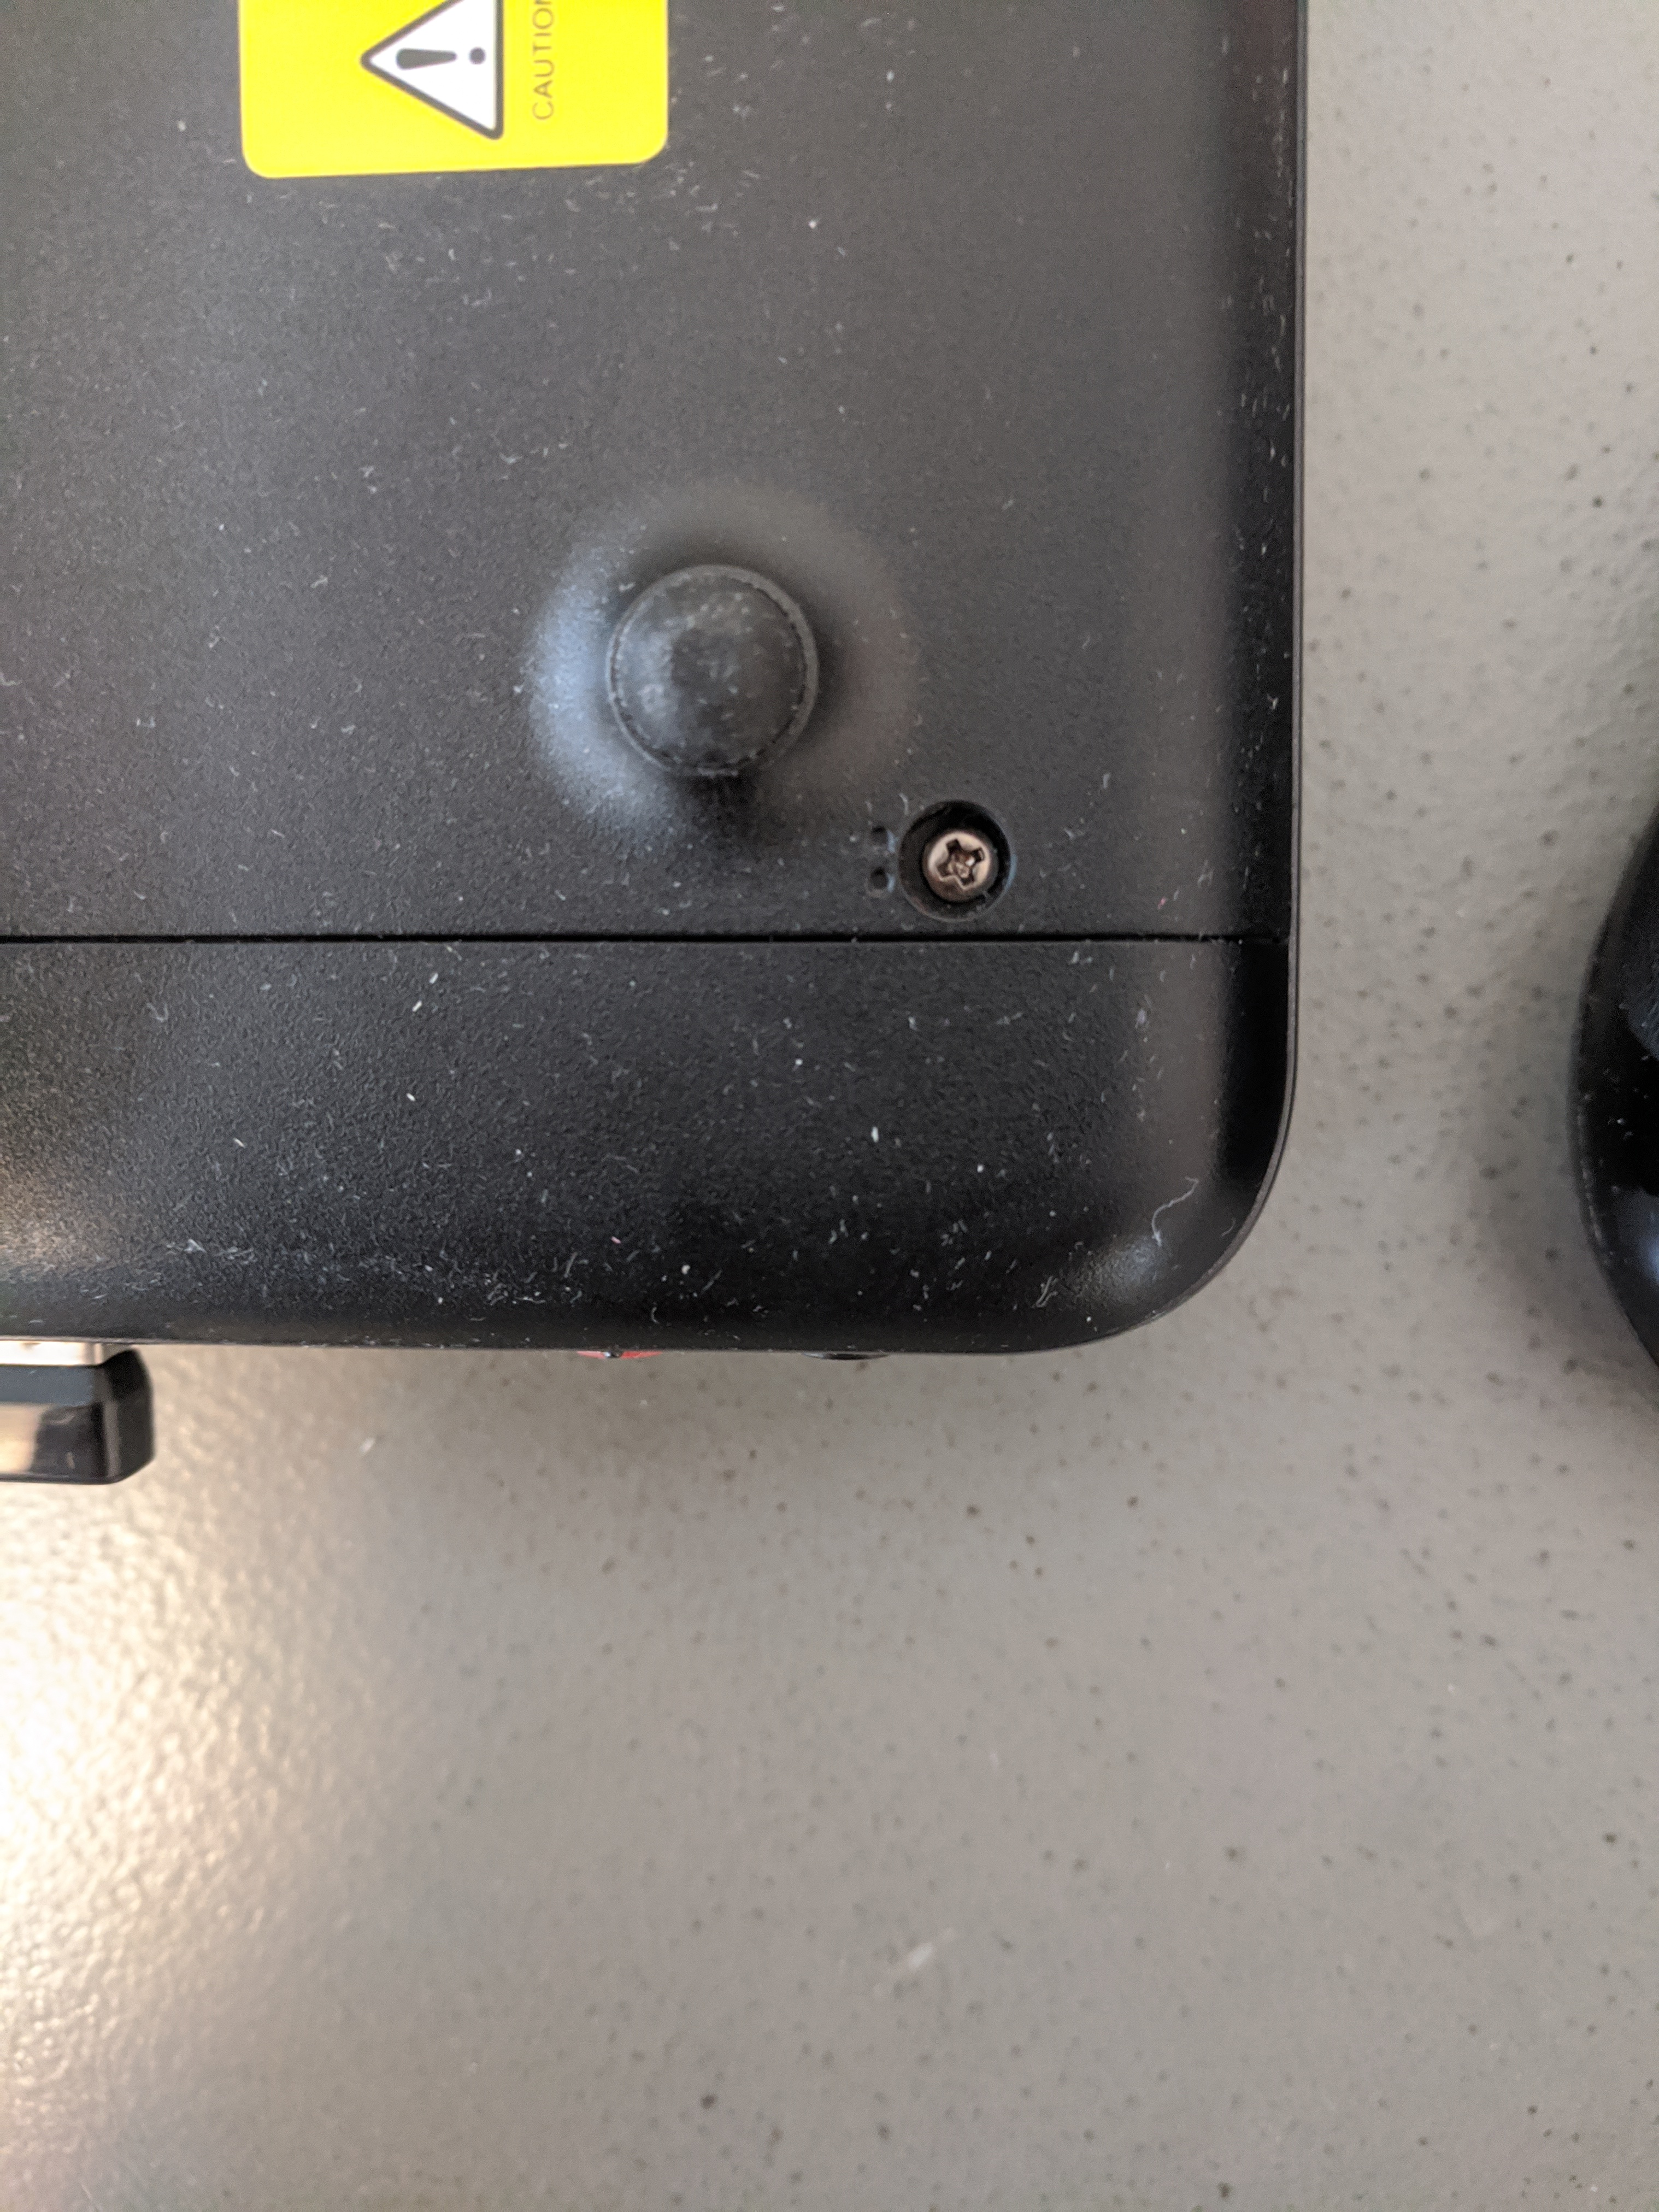cross_recessed_screw: (479, 1120, 582, 1207), (1093, 775, 1176, 862)
